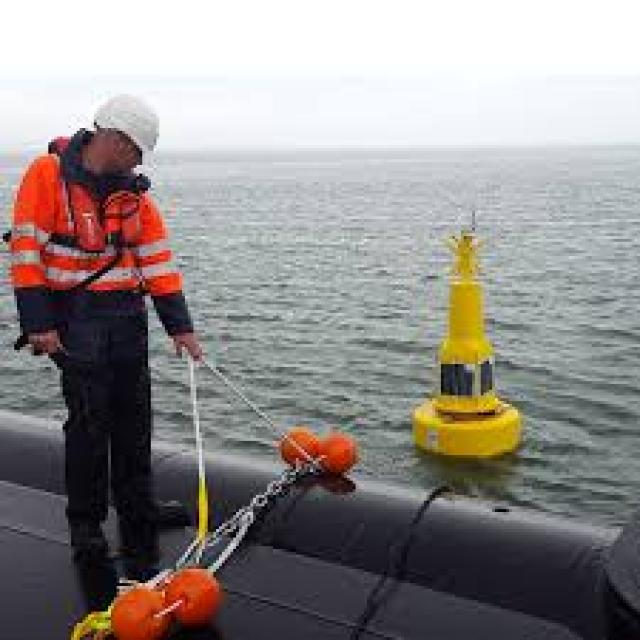buoy: (401, 195, 541, 478)
